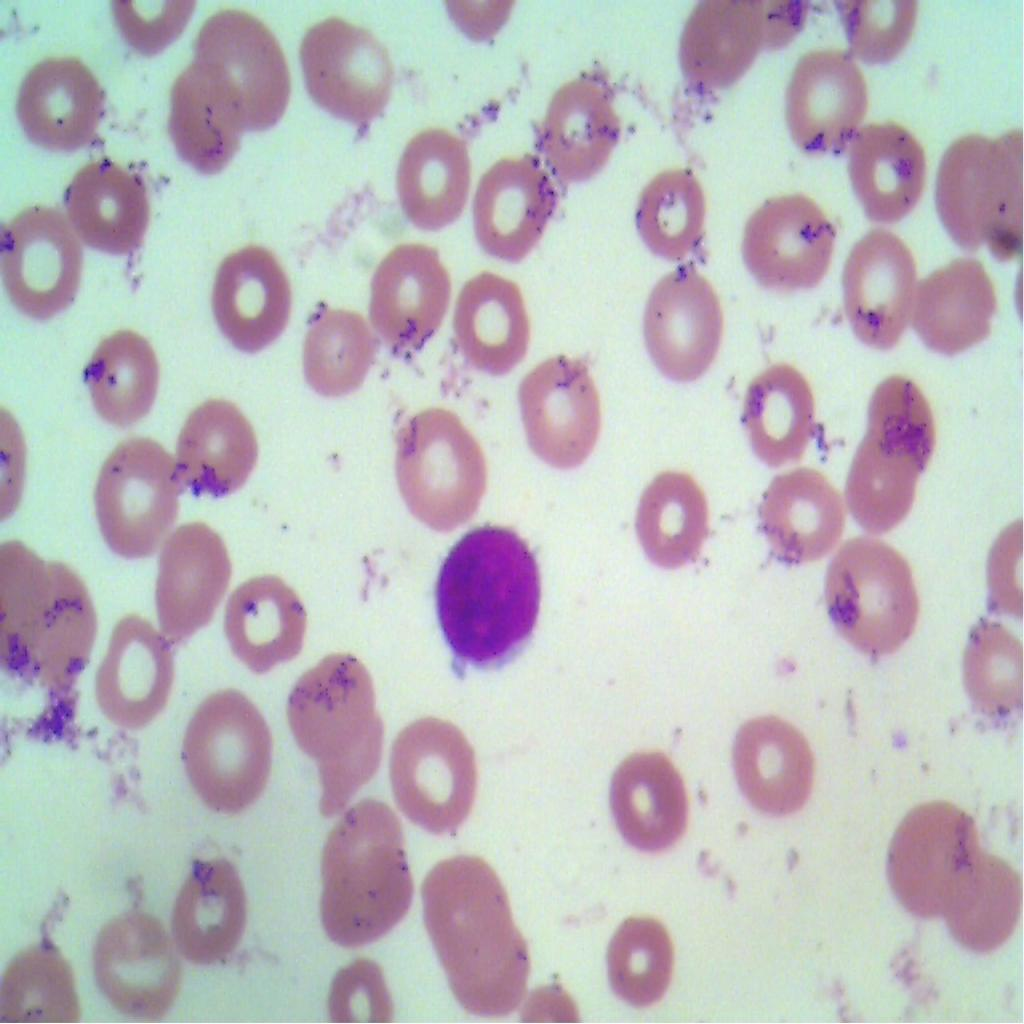Eritrosit: (812, 525, 930, 664), (319, 795, 423, 948), (386, 392, 496, 532), (172, 685, 282, 824), (164, 854, 266, 989), (191, 4, 294, 134), (92, 884, 186, 1023), (718, 704, 826, 821), (58, 155, 164, 274), (534, 68, 628, 201), (299, 14, 401, 135), (823, 227, 922, 351), (882, 794, 983, 915), (773, 37, 871, 159), (166, 388, 272, 500), (734, 186, 839, 298), (218, 574, 321, 687), (10, 52, 113, 164), (86, 434, 176, 562), (286, 625, 374, 755), (393, 715, 490, 832), (290, 291, 382, 414), (14, 561, 100, 692), (626, 452, 718, 574), (146, 516, 232, 646), (362, 228, 452, 351), (744, 458, 851, 561), (0, 204, 88, 327), (203, 238, 293, 358), (74, 314, 168, 428), (448, 895, 538, 1010), (642, 271, 726, 394), (586, 890, 678, 1002), (451, 263, 536, 381), (164, 58, 246, 180), (928, 118, 1006, 246), (470, 148, 556, 264), (94, 614, 178, 732), (626, 157, 718, 264), (836, 121, 931, 224), (516, 358, 603, 468), (608, 748, 694, 858), (414, 845, 506, 947), (386, 132, 472, 238), (915, 255, 1003, 358), (319, 695, 394, 814), (943, 848, 1023, 959), (958, 596, 1023, 726), (739, 354, 815, 465), (843, 431, 923, 535), (668, 0, 759, 89), (864, 374, 936, 479), (323, 959, 413, 1023)
Limfoblast: (428, 522, 551, 674)
